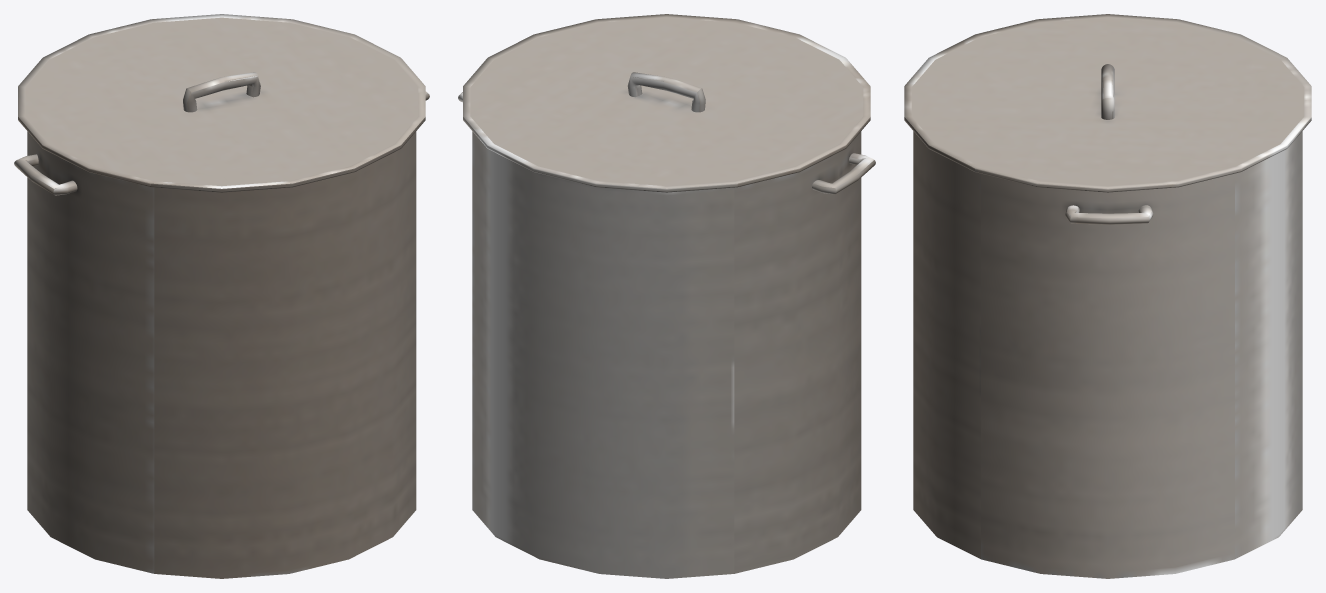
Rendered from boilingpot.obj.
3 renders of one model, left to right at view 1: azimuth 30°, elevation 25°; view 2: azimuth 150°, elevation 25°; view 3: azimuth 270°, elevation 25°, orthographic.
Parts seen in each view (by area): view 1: boilingpot; view 2: boilingpot; view 3: boilingpot.
Part boxes in pixels (x1,y1,x2,y2): boilingpot: (14, 14, 429, 578); boilingpot: (458, 14, 875, 578); boilingpot: (904, 14, 1311, 578).
Size of the model in its own units: 0.327 by 0.3405 by 0.3012.
